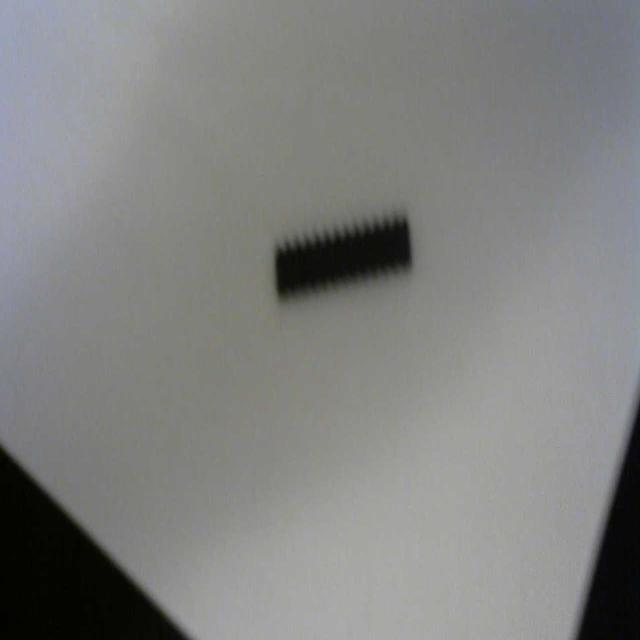atmega: (270, 206, 415, 308)
